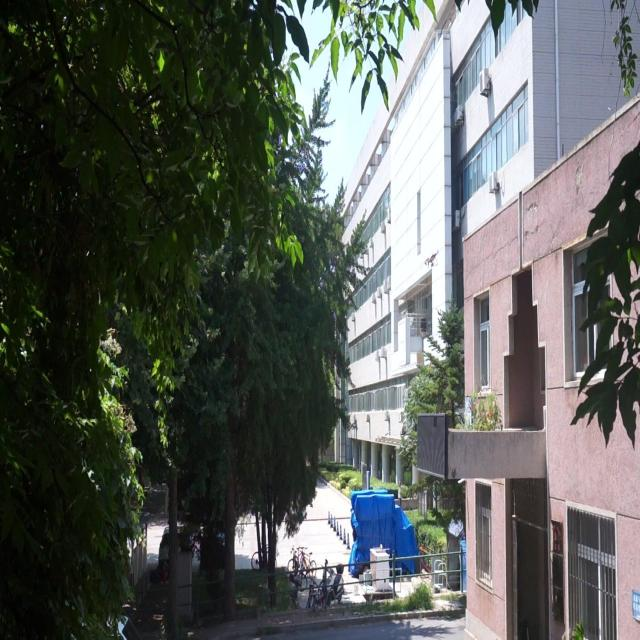drone: (422, 242, 440, 273)
